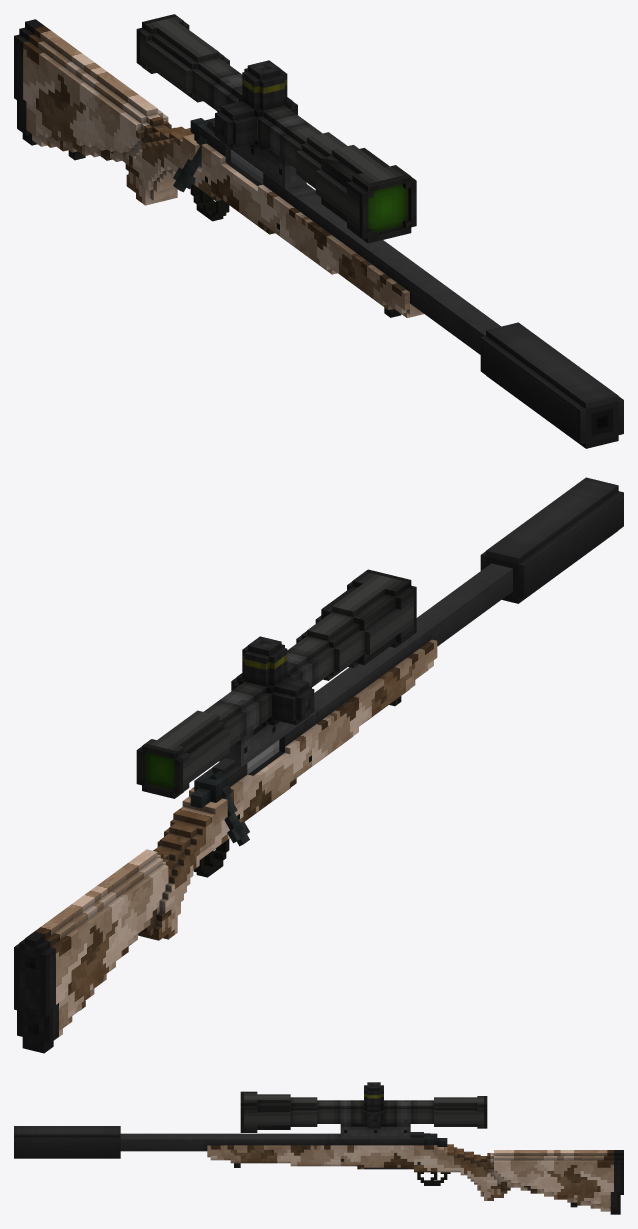
The model's file is RD_M700_DESERT.glb.
3 views of the same model, one above another, from view 1: azimuth 30°, elevation 25°; view 2: azimuth 150°, elevation 25°; view 3: azimuth 270°, elevation 25° (orthographic). The views are drawn at different scales.
Visible parts, largest first — view 1: M700_BODY, SCOPE_LEUPOLD, SILENCER_6X6, M700_BOLT_PART2, M700_BOLT_PART1; view 2: M700_BODY, SCOPE_LEUPOLD, SILENCER_6X6, M700_BOLT_PART1, M700_BOLT_PART2; view 3: M700_BODY, SCOPE_LEUPOLD, SILENCER_6X6, M700_BOLT_PART1.
Part boxes in pixels (<box>): M700_BODY: <box>14,19,500,354</box>; SCOPE_LEUPOLD: <box>136,14,416,243</box>; SILENCER_6X6: <box>480,322,623,448</box>; M700_BOLT_PART2: <box>173,121,214,192</box>; M700_BOLT_PART1: <box>190,118,263,184</box>; M700_BODY: <box>14,563,512,1053</box>; SCOPE_LEUPOLD: <box>136,569,416,798</box>; SILENCER_6X6: <box>480,477,623,603</box>; M700_BOLT_PART1: <box>190,740,279,808</box>; M700_BOLT_PART2: <box>208,770,249,846</box>; M700_BODY: <box>120,1132,623,1214</box>; SCOPE_LEUPOLD: <box>240,1082,487,1139</box>; SILENCER_6X6: <box>14,1126,120,1158</box>; M700_BOLT_PART1: <box>424,1133,447,1146</box>.
Bounding box in the file's own units: 0.128 × 0.4134 × 1.8.
Materials: 3 (3 with a texture image).
